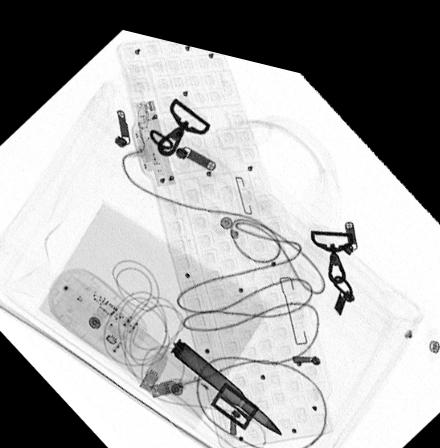Bullet: (169, 327, 282, 422)
